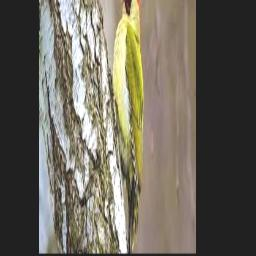Woodpecker: (107, 0, 145, 254)
